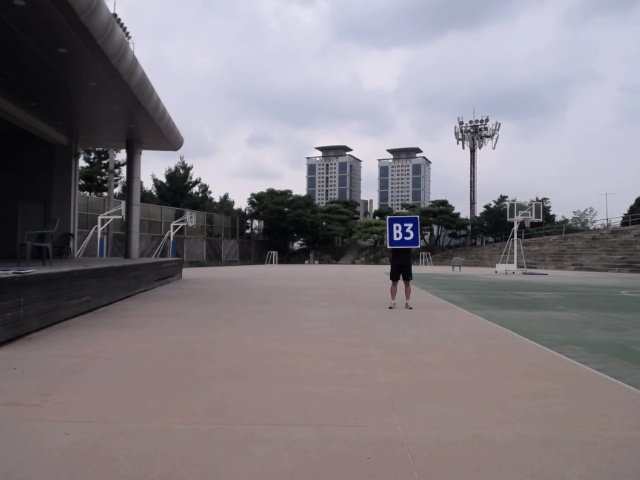delivery_b3: (386, 216, 421, 249)
